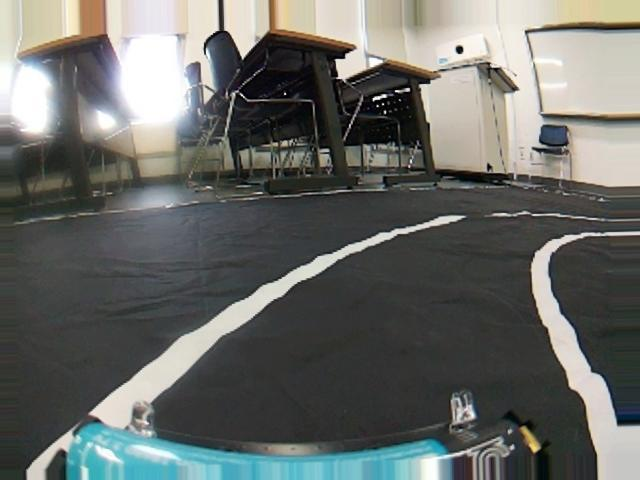right: (2, 207, 640, 480)
